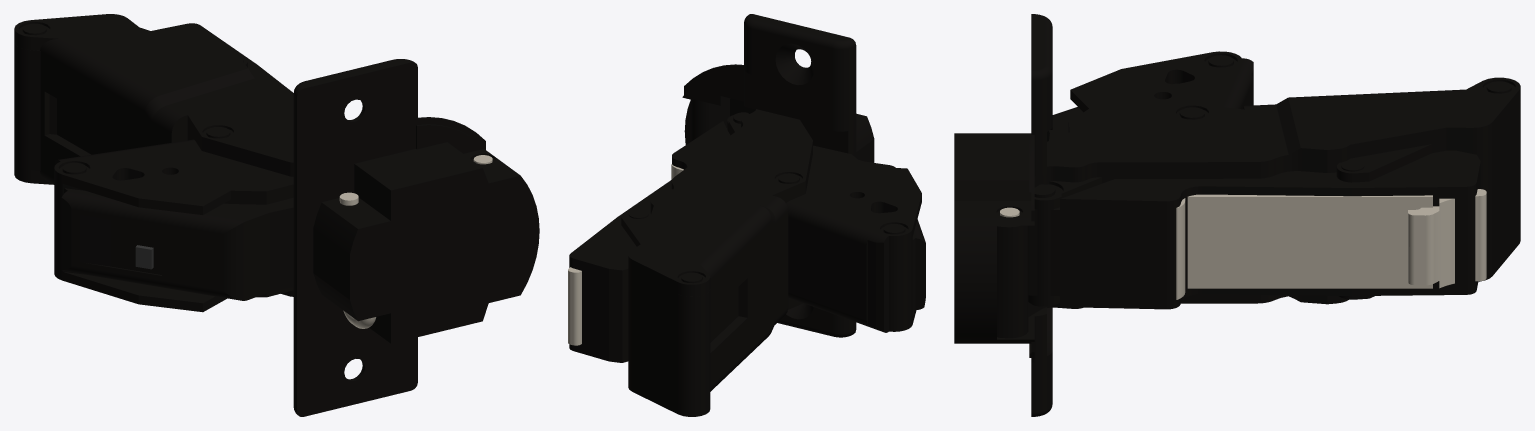
3 renders of one model, left to right at view 1: azimuth 30°, elevation 25°; view 2: azimuth 150°, elevation 25°; view 3: azimuth 270°, elevation 25°, orthographic. The views are drawn at different scales.
Visible parts, largest first — view 1: bau0079302490-1, bau0081904857-1, bau0079324562-1, bau0081906013-1, bau0081905528-1, bau0079262819-1; view 2: bau0081904857-1, bau0081906013-1, bau0079302490-1, bau0079262819-1, bau0081905528-1, bau0079324562-1, bau0025540121-1; view 3: bau0081904857-1, bau0079262819-1, bau0025540121-1, bau0079302490-1, bau0081906013-1, bau0081905528-1, bau0079324562-1.
Boxes of the visible parts, <box> form: bau0079302490-1: <box>293,59,539,416</box>; bau0081904857-1: <box>14,14,293,296</box>; bau0079324562-1: <box>61,188,293,300</box>; bau0081906013-1: <box>54,139,293,312</box>; bau0081905528-1: <box>14,42,247,170</box>; bau0079262819-1: <box>151,23,289,89</box>; bau0081904857-1: <box>628,98,812,416</box>; bau0081906013-1: <box>727,112,921,332</box>; bau0079302490-1: <box>682,14,874,337</box>; bau0079262819-1: <box>569,121,730,362</box>; bau0081905528-1: <box>621,209,710,404</box>; bau0079324562-1: <box>859,160,925,311</box>; bau0025540121-1: <box>568,164,683,345</box>; bau0081904857-1: <box>997,77,1520,338</box>; bau0079262819-1: <box>1028,150,1480,309</box>; bau0025540121-1: <box>1176,189,1486,299</box>; bau0079302490-1: <box>954,14,1052,416</box>; bau0081906013-1: <box>1028,51,1253,306</box>; bau0081905528-1: <box>1336,101,1520,299</box>; bau0079324562-1: <box>1047,83,1178,141</box>.
Bounding box in the file's own units: 65.68 × 57 × 84.59.
